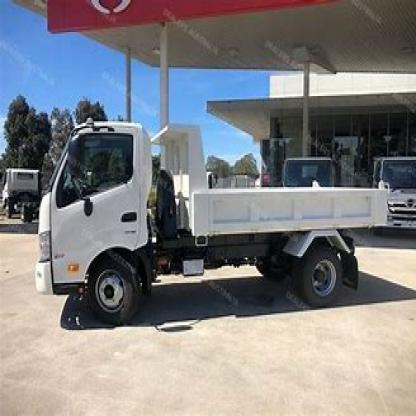dump_truck: (37, 110, 390, 340)
